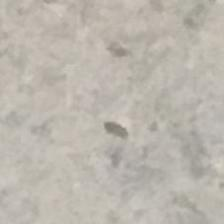Non_Crack: (17, 6, 224, 224)
